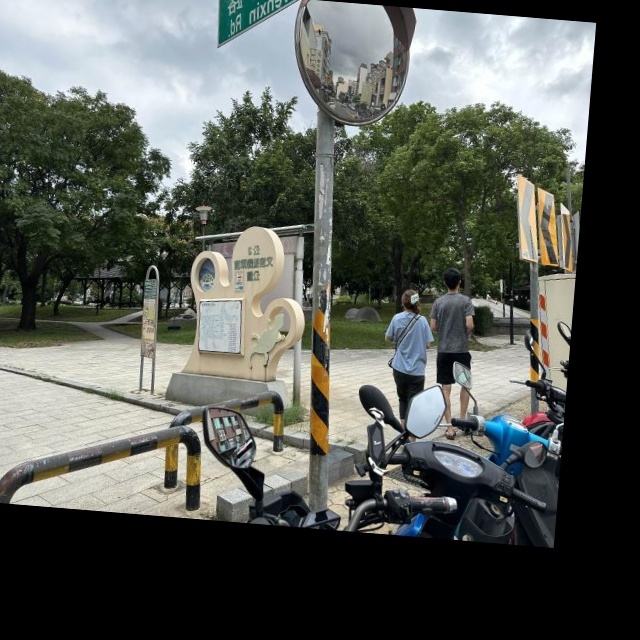Sin_Casco_Mascarrilla: (401, 288, 418, 313), (442, 268, 461, 290)
Sin_Chaleco: (390, 313, 427, 372), (435, 292, 467, 352)
